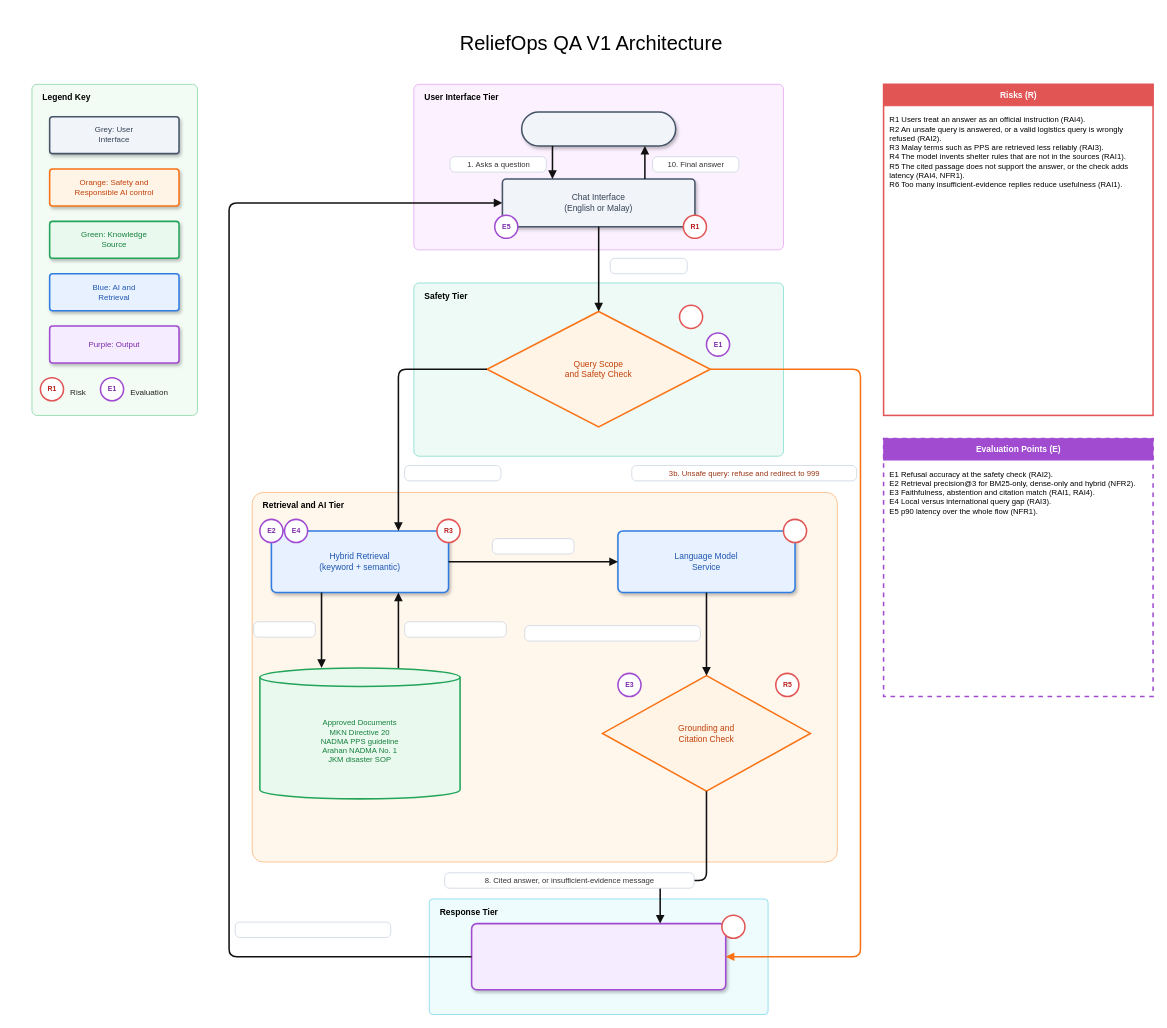
Image size: 1167x1028. Some labels were removed from this diagram. The shapes that lost their labels are listed below. From the top down, each one's centre as x and y in pixels, then its label:
point (599, 130): User
point (648, 266): 2. Sends query
point (690, 316): R2
point (452, 473): 3a. In-scope query
point (533, 546): 6. Top passages
point (794, 530): R4
point (284, 629): 4. Searches
point (455, 629): 5. Returns passages
point (612, 633): 7. Draft answer from passages only
point (312, 929): 9. Displays answer and sources
point (733, 926): R6
point (599, 957): Final Response Answer with sources, evidence message or 999 redirect
